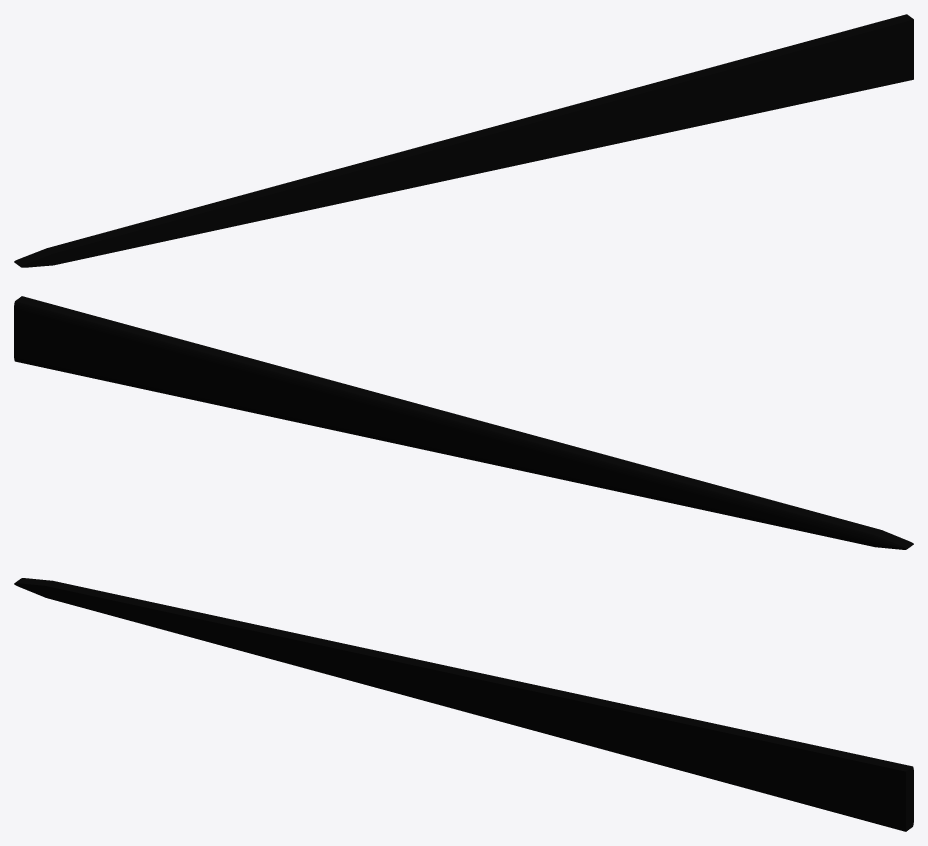
The model's file is hora.obj.
3 views of the same model, one above another, from view 1: azimuth 30°, elevation 25°; view 2: azimuth 150°, elevation 25°; view 3: azimuth 330°, elevation 25° (orthographic).
Parts seen in each view (by area): view 1: polySurface3 polySurface2 relojA2; view 2: polySurface3 polySurface2 relojA2; view 3: polySurface3 polySurface2 relojA2.
Part boxes in pixels (x1,y1,x2,y2): polySurface3 polySurface2 relojA2: (14,14,913,267); polySurface3 polySurface2 relojA2: (14,296,913,549); polySurface3 polySurface2 relojA2: (14,578,913,831).
Size of the model in its own units: 0.1207 by 0.0078 by 0.00187.
Materials: 1 (1 with a texture image).
